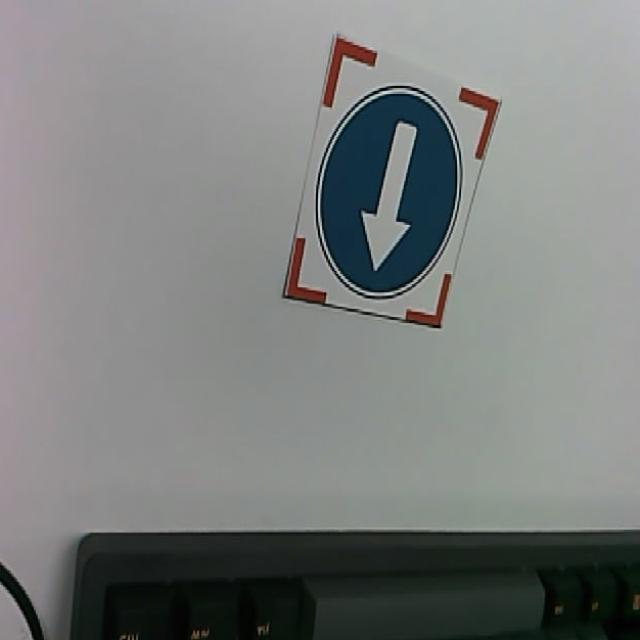straight: (279, 33, 498, 332)
